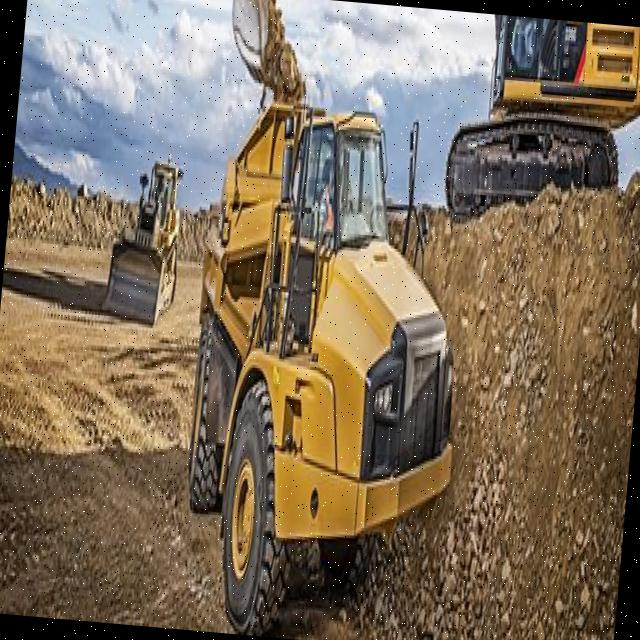Bulldozer: (95, 106, 208, 372)
Dump Truck: (163, 73, 517, 640)
Excavator: (436, 10, 640, 238)
